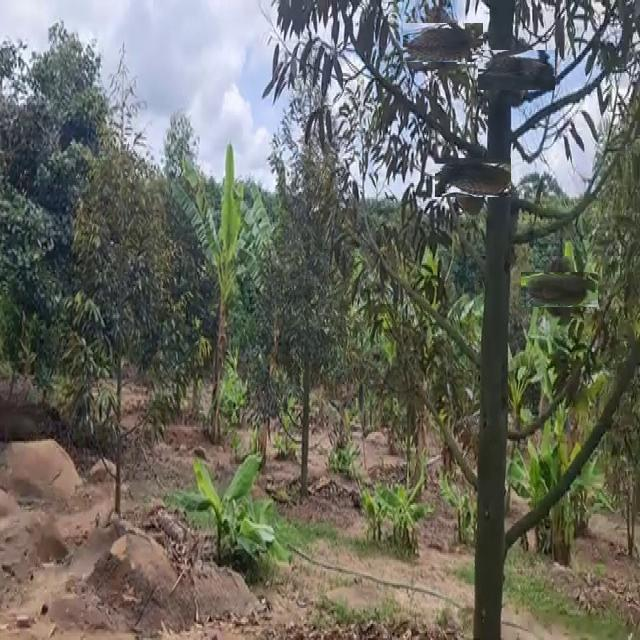durian: (413, 12, 473, 72), (487, 40, 546, 99), (444, 148, 502, 206), (532, 261, 588, 318)
